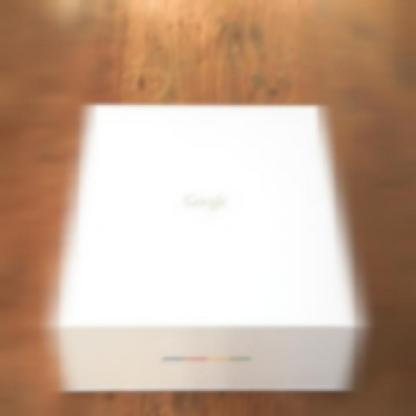-: (62, 94, 367, 406)
